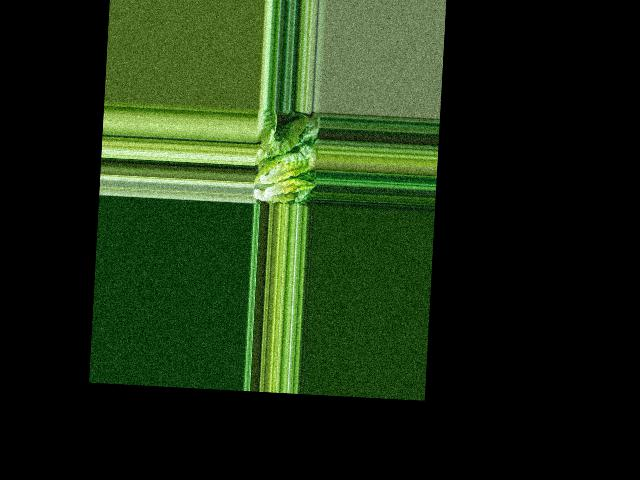lettuce: (252, 141, 314, 205)
